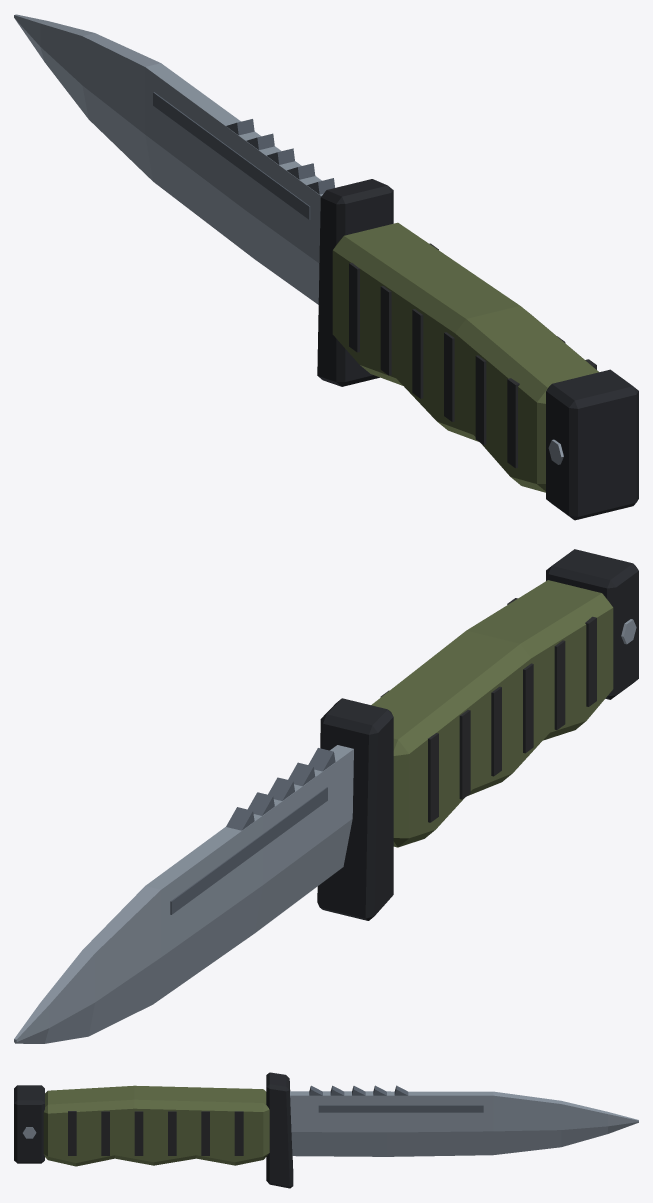
Rendered from knife.glb.
3 views of the same model, one above another, from view 1: azimuth 30°, elevation 25°; view 2: azimuth 150°, elevation 25°; view 3: azimuth 270°, elevation 25° (orthographic). The views are drawn at different scales.
Visible parts, largest first — view 1: Body; view 2: Body; view 3: Body.
Boxes of the visible parts, x1,y1,x2,y2 form: Body: (14, 14, 638, 520); Body: (14, 549, 638, 1043); Body: (14, 1072, 638, 1188).
Size of the model in its own units: 0.0256 by 0.0593 by 0.322.
